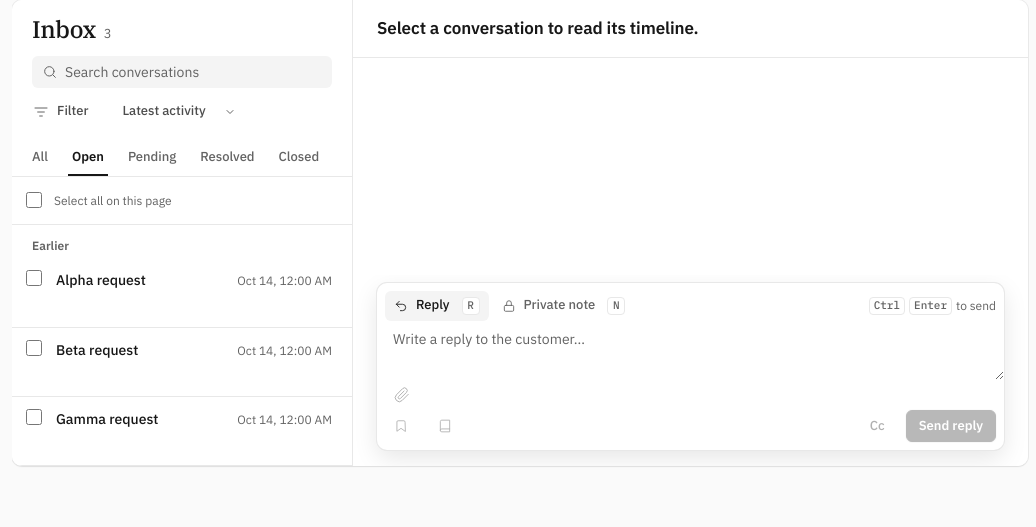
Test case: resolve changes the selection in one press
What coordinates should you click on to do the following:
click the checkbox named "alpha request"
I would click on:
 (34, 278)
Its box is top-left (26, 270), bottom-right (42, 286).
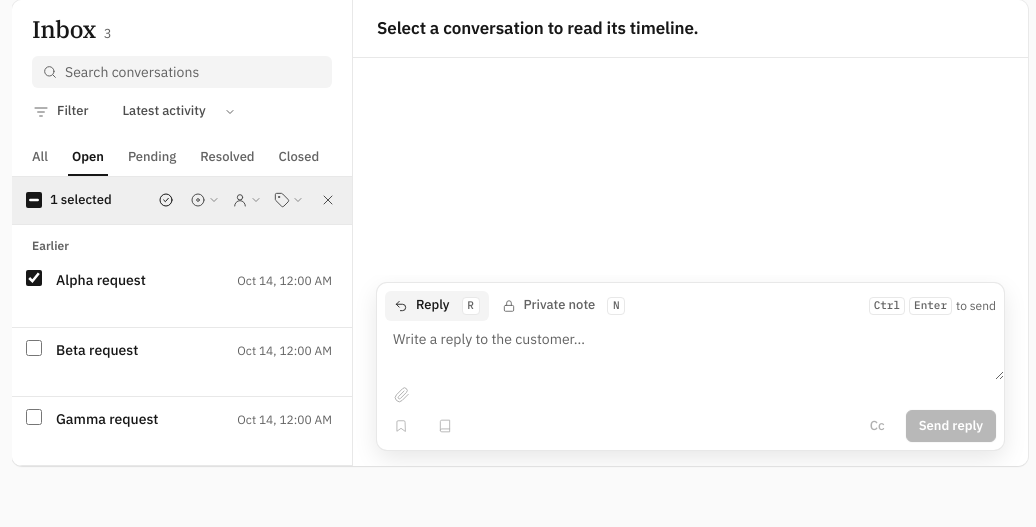
What coordinates should you click on to do the following:
click the checkbox named "gamma request"
I would click on:
 (34, 417)
Its box is top-left (26, 409), bottom-right (42, 425).
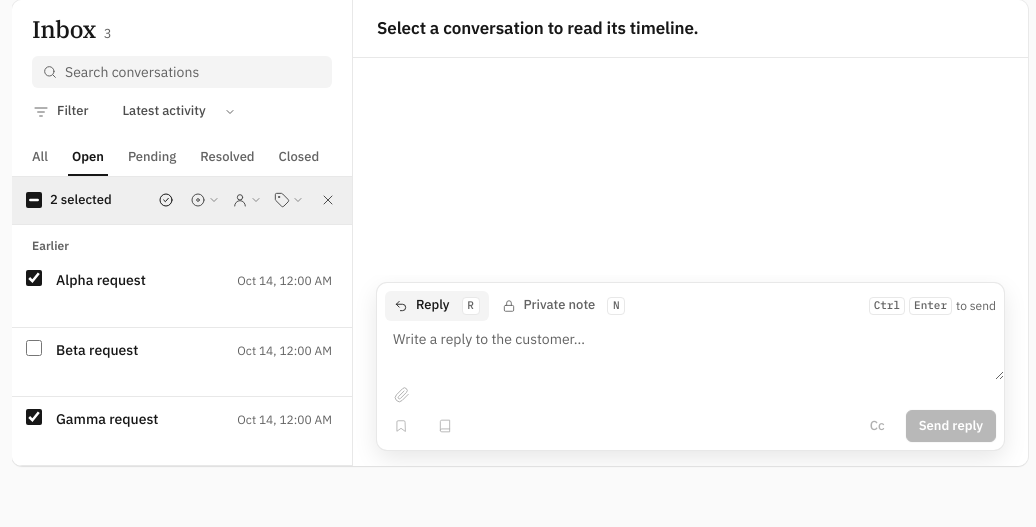
What coordinates should you click on to do the following:
click the button named "Resolve"
I would click on:
 (166, 200)
Its box is top-left (150, 184), bottom-right (182, 216).
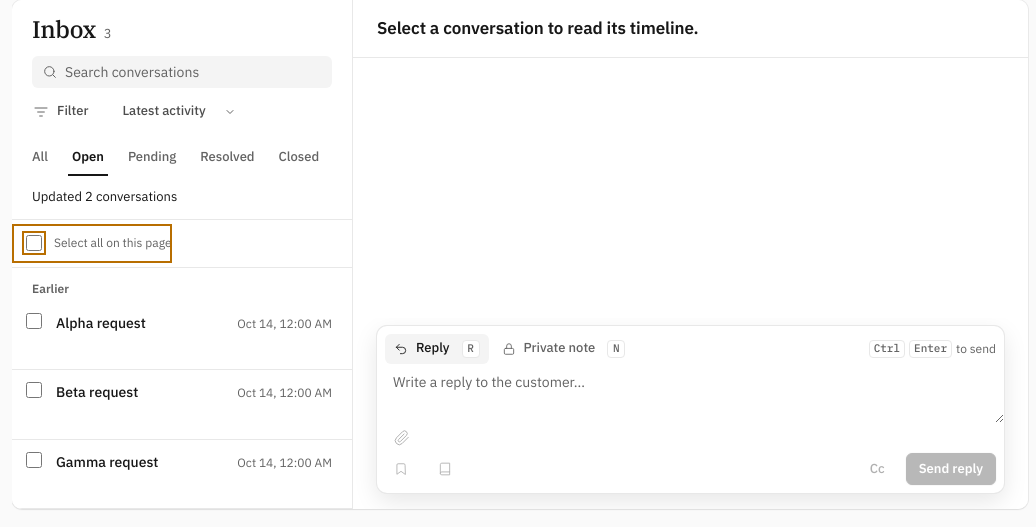
Expected: the text "Updated 2 conversations" is shown, top-left (32, 188), bottom-right (177, 205)
